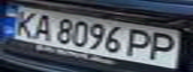0: (69, 18, 90, 48)
6: (103, 24, 130, 55)
8: (51, 16, 75, 46)
9: (84, 20, 109, 52)
A: (27, 11, 57, 42)
K: (6, 8, 42, 38)
P: (145, 29, 187, 62), (124, 26, 160, 60)
